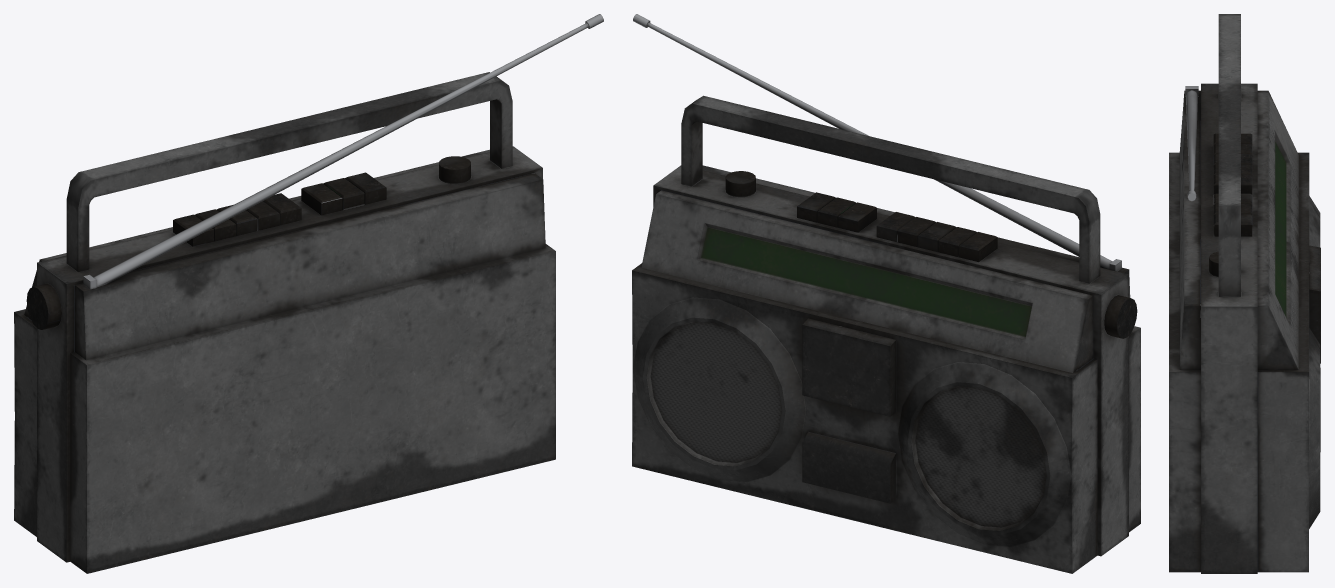
Rendered from Radio_01.fbx.
The picture shows the model from 3 angles, left to right: view 1: azimuth 30°, elevation 25°; view 2: azimuth 150°, elevation 25°; view 3: azimuth 270°, elevation 25°; orthographic projection. The views are drawn at different scales.
Visible parts, largest first — view 1: Radio_1; view 2: Radio_1; view 3: Radio_1.
Boxes of the visible parts, x1,y1,x2,y2 form: Radio_1: [14, 14, 603, 573]; Radio_1: [632, 14, 1140, 573]; Radio_1: [1169, 14, 1320, 573].
Size of the model in its own units: 50.78 by 37.67 by 12.78.
1 material, 1 textured.
